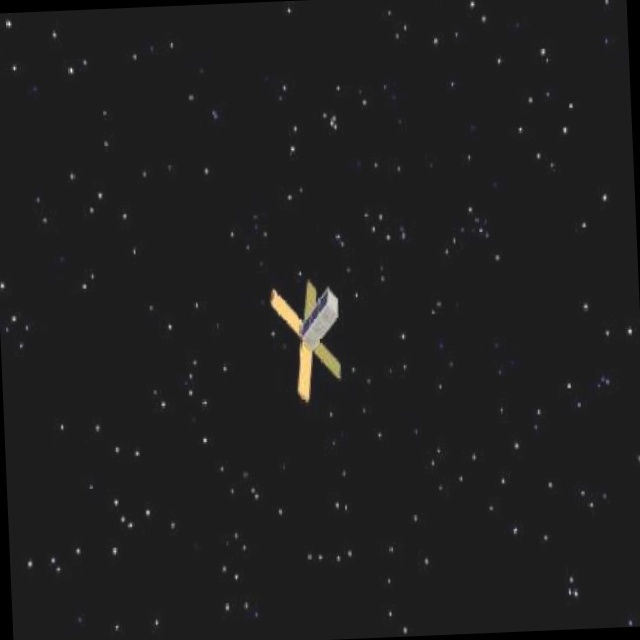medium_debris: (263, 264, 352, 415)
